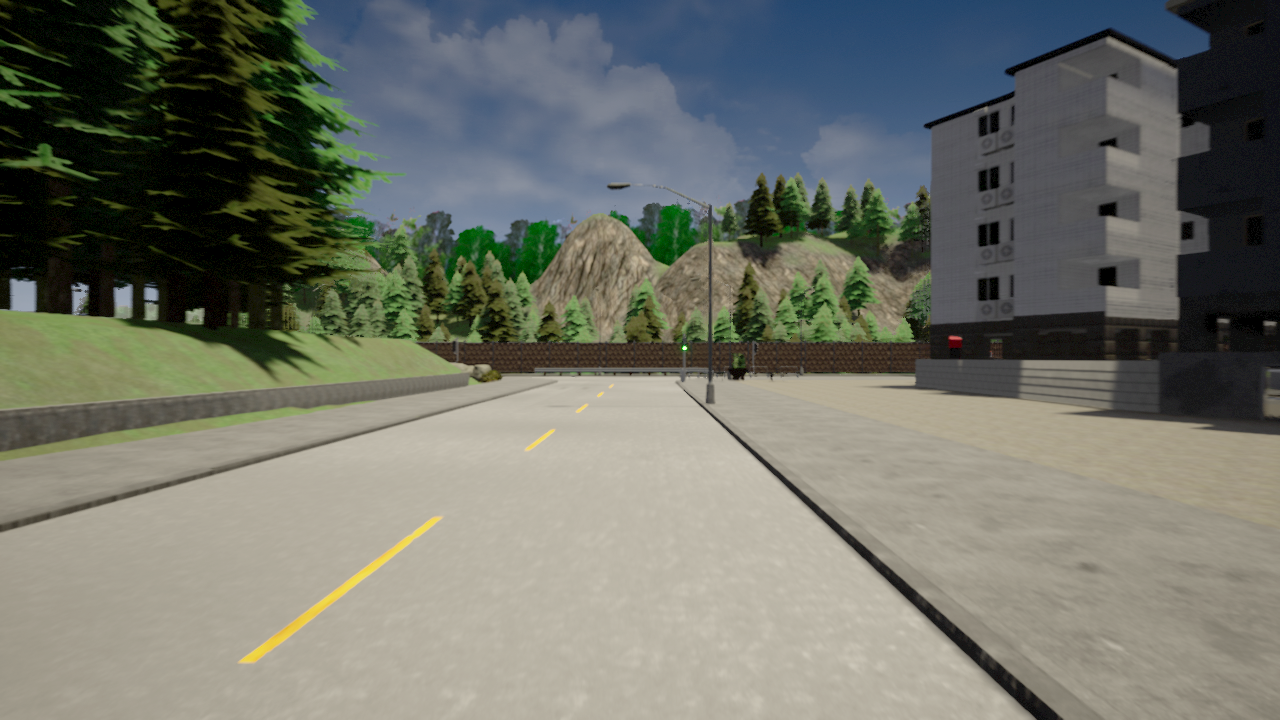green: (681, 338, 687, 351)
